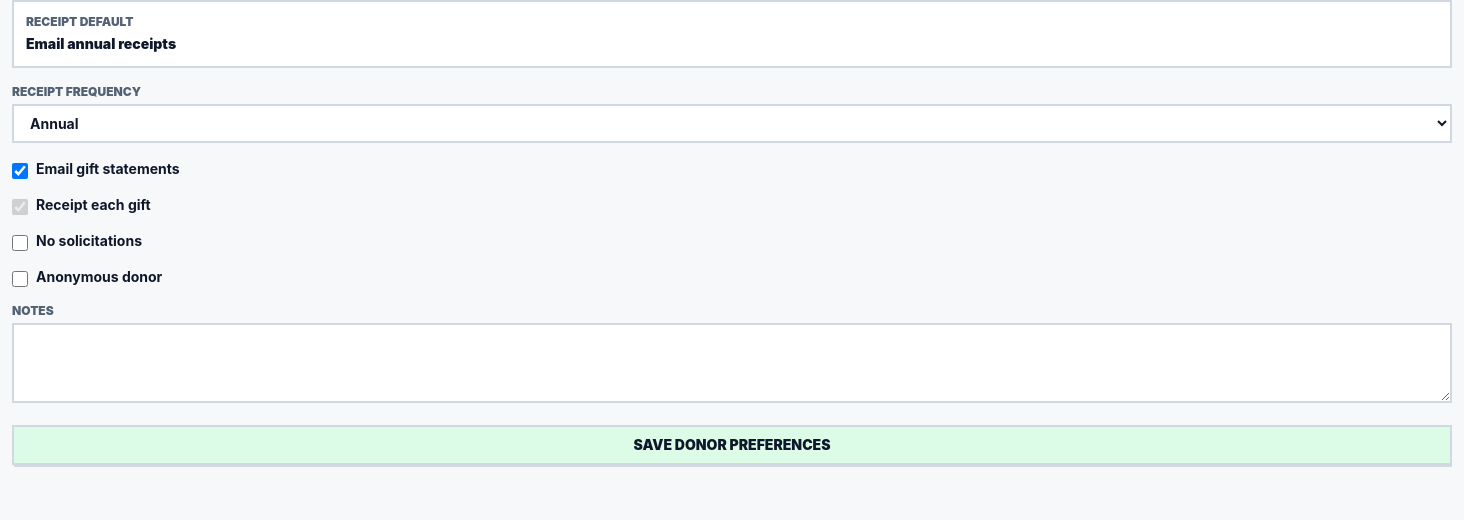
Test: ContactDonorPreferencesPanel › saves compact donor preference updates
Expected: the text "Email annual receipts" is shown, [26,35,176,52]
Select "Per gift" in the dropdown labelled "Receipt Frequency": (732, 124) [12,104,1452,143]
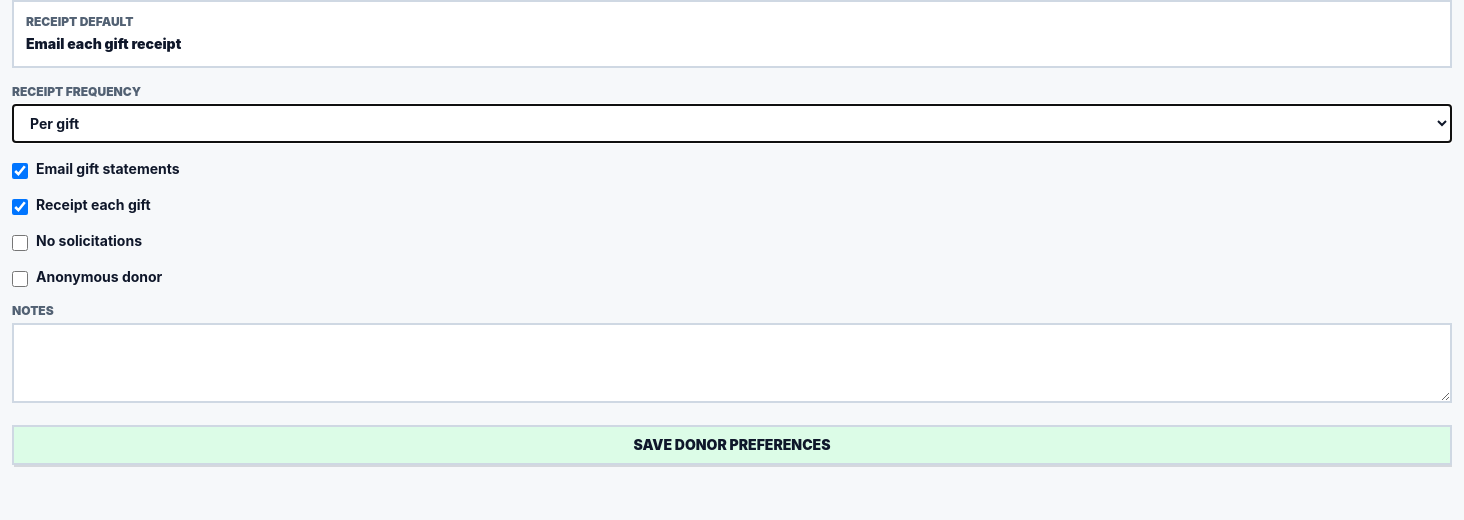
Click the checkbox labelled "No solicitations": (20, 243) [12,235,28,251]
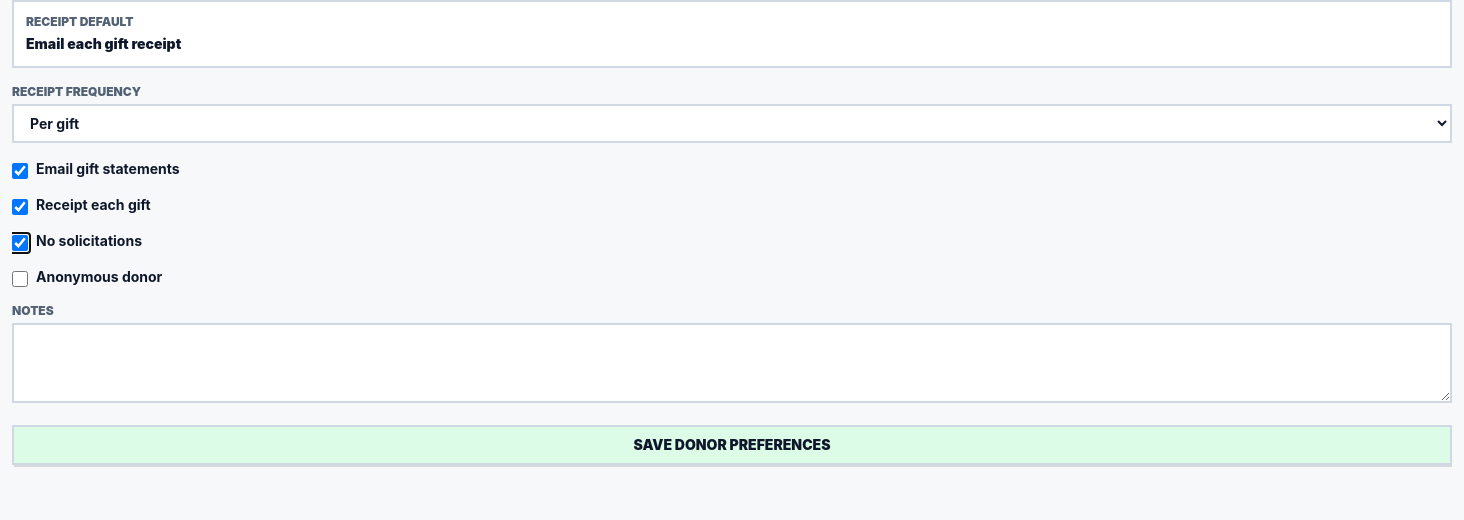
In the text box labelled "Notes": (732, 363) [12,323,1452,403], type "Prefers consolidated updates"
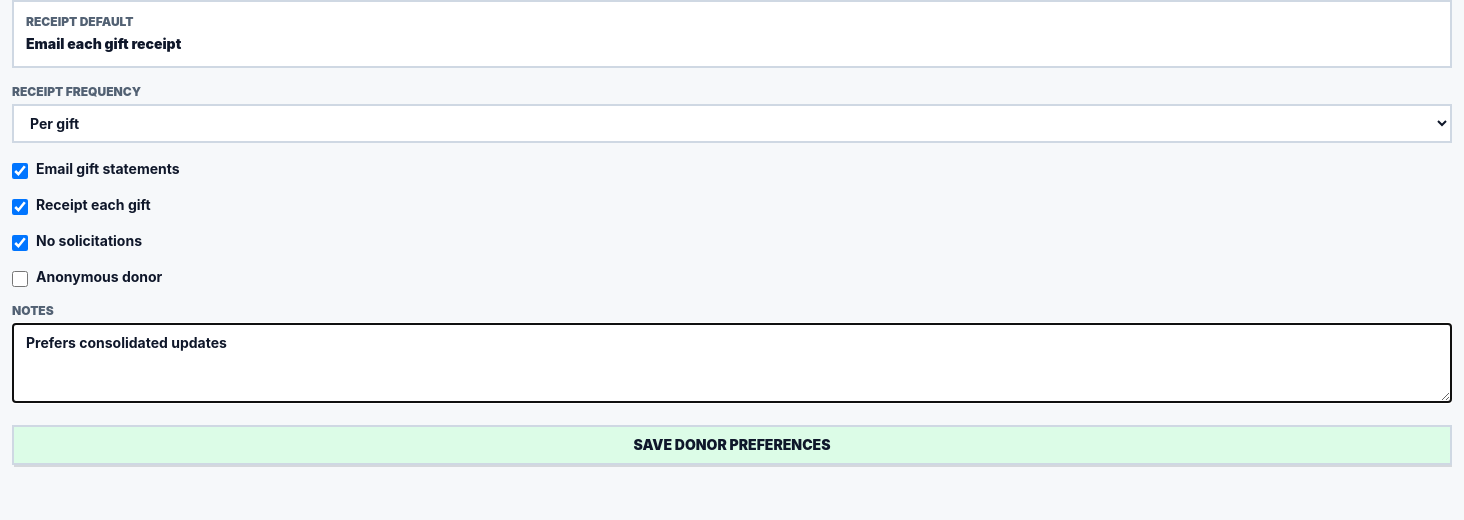
Click the button "Save Donor Preferences": (732, 445) [12,425,1452,465]
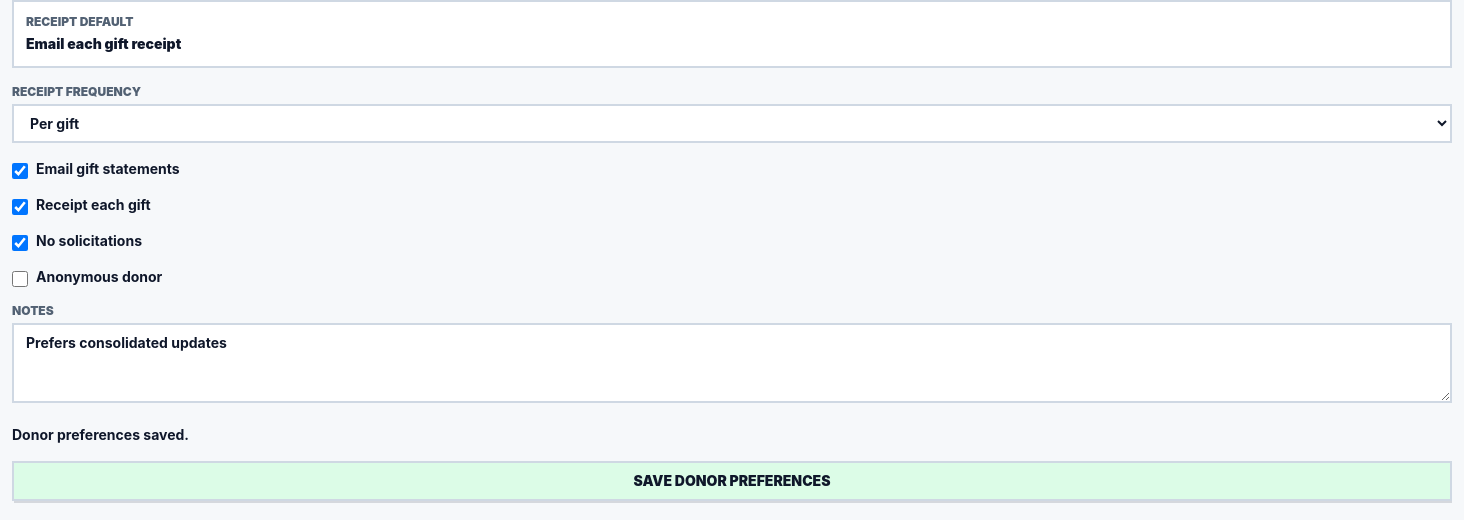
Expected: the text "Donor preferences saved." is shown, [12,426,189,443]
